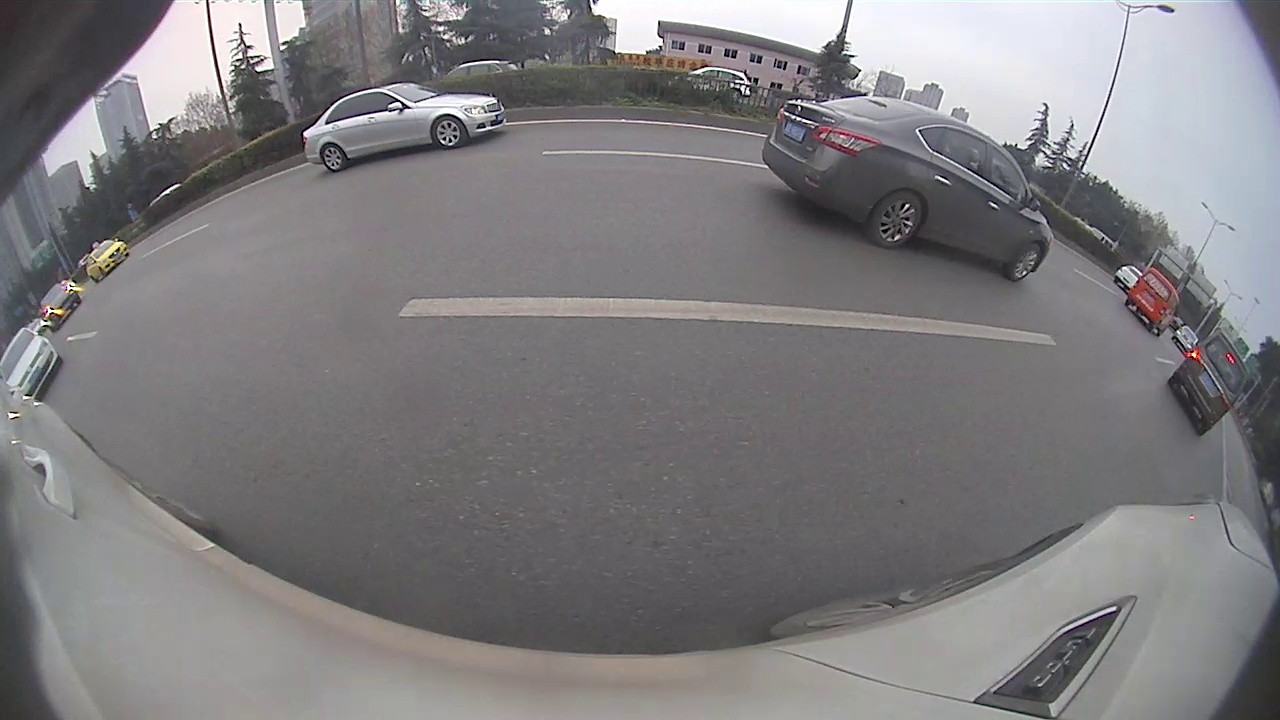car: (759, 95, 1054, 280), (300, 82, 510, 174), (1165, 327, 1251, 436), (1, 329, 60, 401), (1125, 265, 1181, 337)
front: (1006, 240, 1045, 287), (429, 113, 469, 153)
rear: (866, 189, 925, 252), (319, 143, 348, 173)
